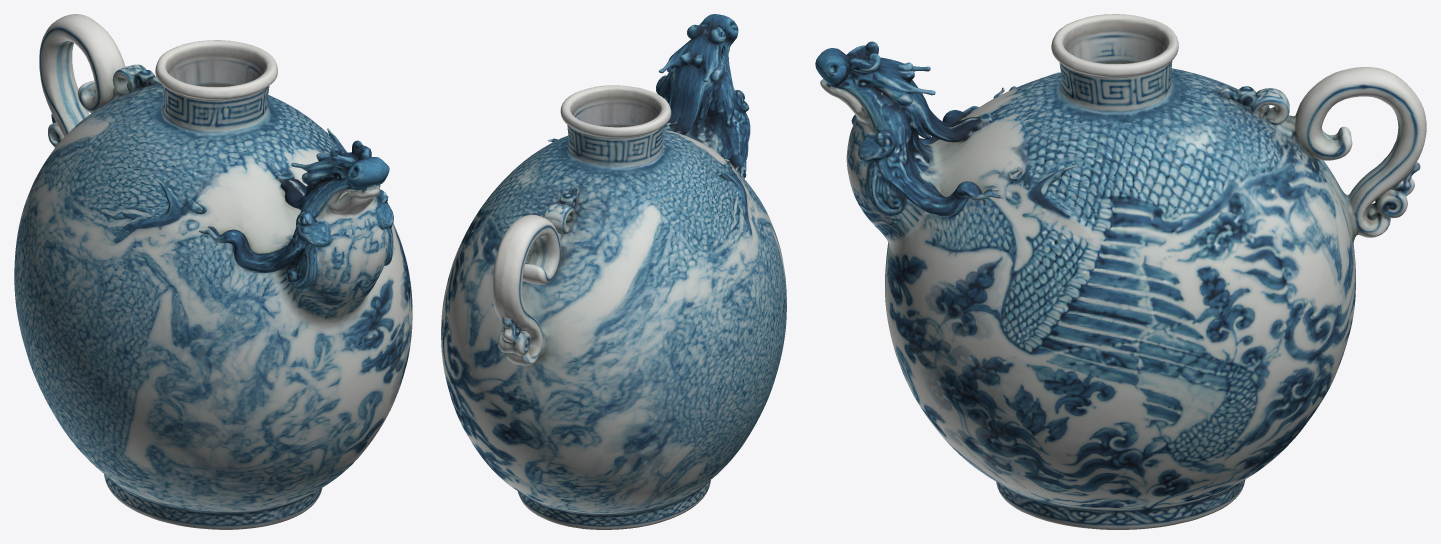
Rendered from 55ef5f2f-c88e-4717-849c-4baf75693ac5.glb.
3 renders of one model, left to right at view 1: azimuth 30°, elevation 25°; view 2: azimuth 150°, elevation 25°; view 3: azimuth 270°, elevation 25°, orthographic. The views are drawn at different scales.
Parts seen in each view (by area): view 1: tripo_node_84289e6d-be26-4a34-870c-8db06e3e4855; view 2: tripo_node_84289e6d-be26-4a34-870c-8db06e3e4855; view 3: tripo_node_84289e6d-be26-4a34-870c-8db06e3e4855.
Boxes of the visible parts, x1,y1,x2,y2 form: tripo_node_84289e6d-be26-4a34-870c-8db06e3e4855: (14,14,412,529); tripo_node_84289e6d-be26-4a34-870c-8db06e3e4855: (441,14,786,529); tripo_node_84289e6d-be26-4a34-870c-8db06e3e4855: (815,14,1426,529).
Bounding box in the file's own units: 0.6311 × 0.8017 × 0.9967.
Materials: 1 (1 with a texture image).
